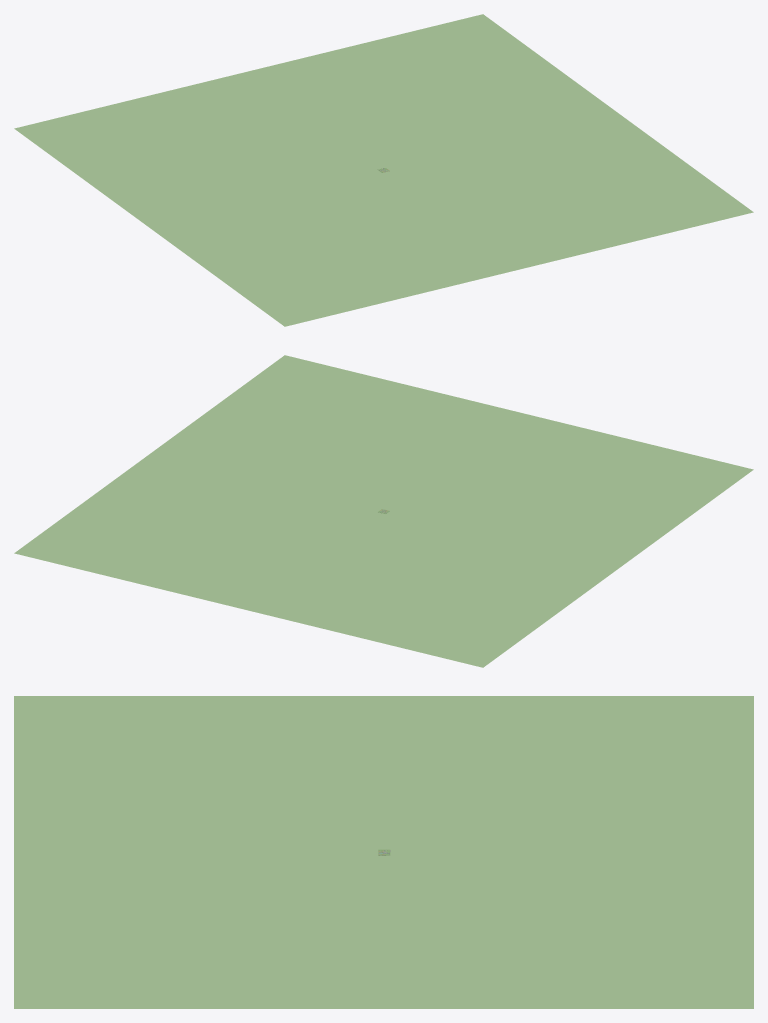
The picture shows the model from 3 angles, top to bottom: view 1: azimuth 30°, elevation 25°; view 2: azimuth 150°, elevation 25°; view 3: azimuth 270°, elevation 25°; orthographic projection. The views are drawn at different scales.
Visible parts, largest first — view 1: ground_east, ground_west, ground_south, ground_north; view 2: ground_east, ground_west, ground_south, ground_north; view 3: ground_west, ground_east, ground_south, ground_north.
Boxes of the visible parts, box(x1,y1,x2,y2) form: ground_east: box(253, 14, 753, 268); ground_west: box(14, 72, 514, 326); ground_south: box(382, 171, 522, 270); ground_north: box(245, 70, 385, 169); ground_east: box(14, 355, 514, 609); ground_west: box(253, 413, 753, 667); ground_south: box(382, 411, 522, 510); ground_north: box(245, 512, 385, 611); ground_west: box(14, 696, 753, 849); ground_east: box(14, 855, 753, 1008); ground_south: box(14, 849, 378, 855); ground_north: box(390, 849, 753, 855).
Size of the model in its own units: 100000 by 31.39 by 100000.
